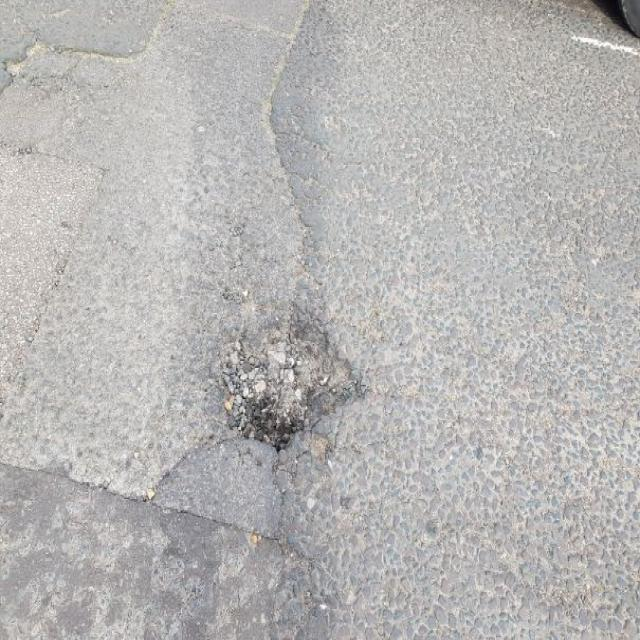pothole: (194, 294, 368, 452), (0, 31, 84, 110)
